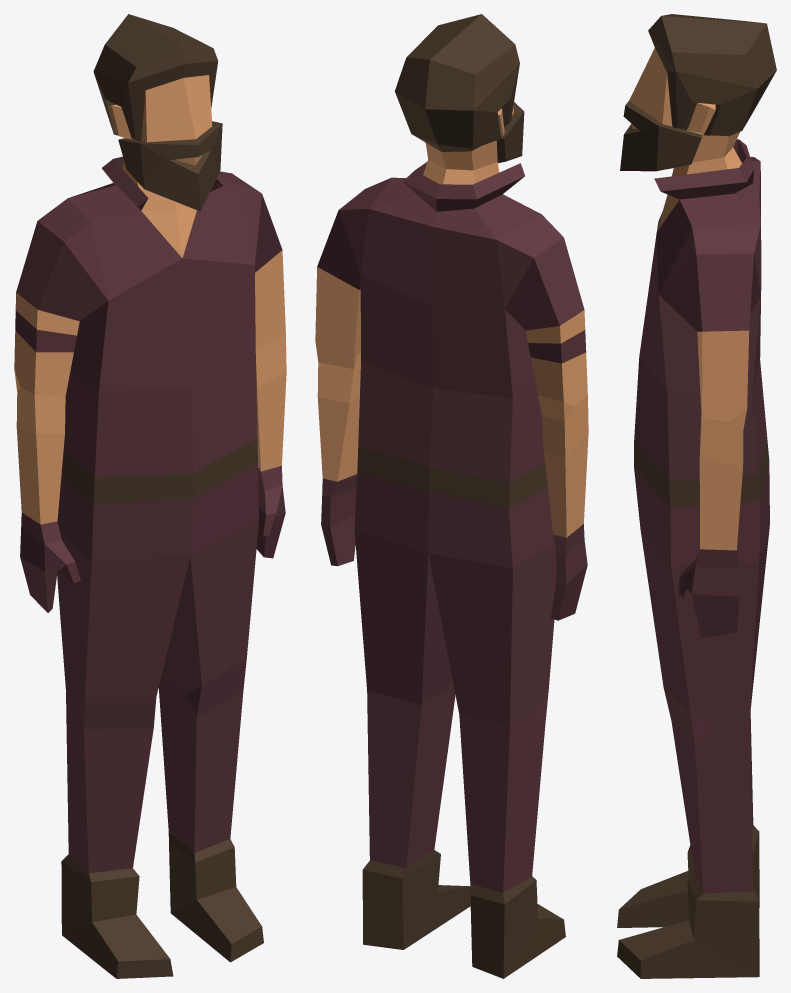
Rendered from man-tattoo.fbx.
The picture shows the model from 3 angles, left to right: view 1: azimuth 30°, elevation 25°; view 2: azimuth 150°, elevation 25°; view 3: azimuth 270°, elevation 25°; orthographic projection.
Parts seen in each view (by area): view 1: man-tattoo; view 2: man-tattoo; view 3: man-tattoo.
Boxes of the visible parts, box(x1,y1,x2,y2) form: man-tattoo: box(14, 14, 286, 978); man-tattoo: box(315, 14, 588, 978); man-tattoo: box(617, 14, 776, 978).
Size of the model in its own units: 0.5327 by 1.83 by 0.2865.
